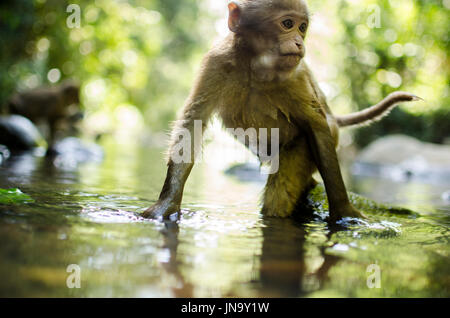monkey: (140, 1, 429, 240)
